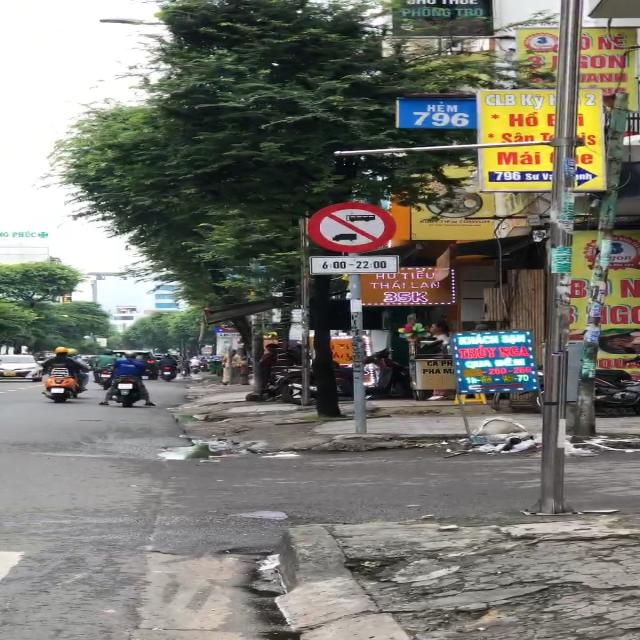Bien bao cam xe oto khach va xe oto tai: (302, 198, 404, 254)
